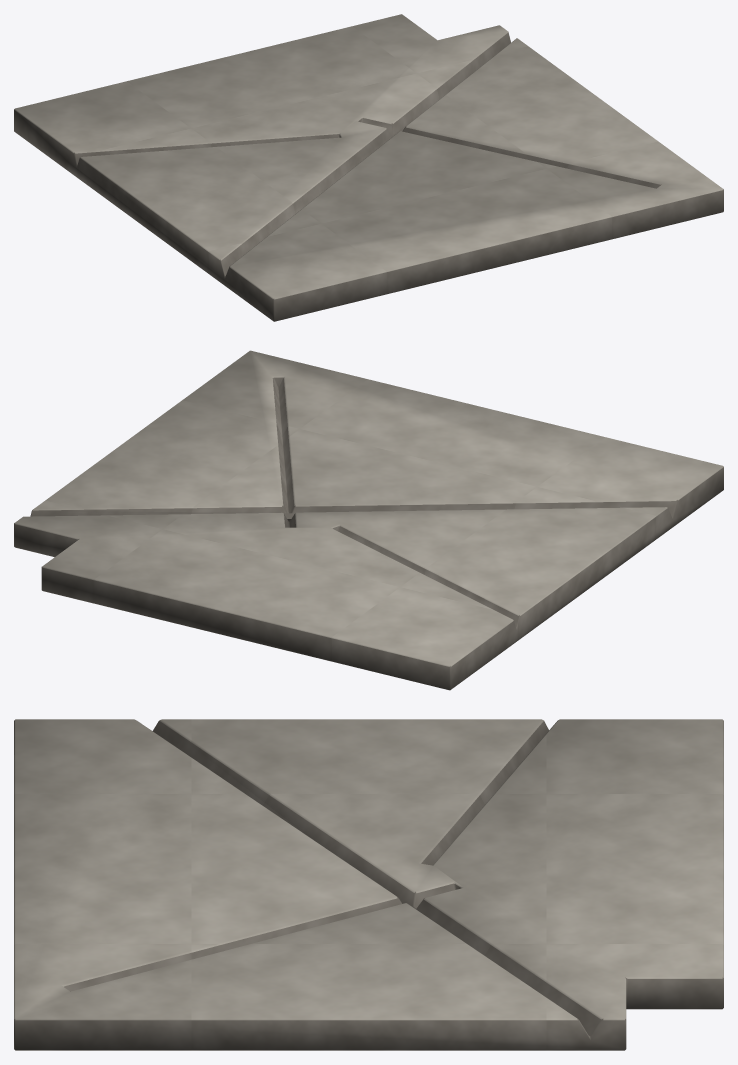
The model's file is floor_concrete_4x4_cracked.glb.
3 renders of one model, top to bottom at view 1: azimuth 30°, elevation 25°; view 2: azimuth 150°, elevation 25°; view 3: azimuth 270°, elevation 25°, orthographic. The views are drawn at different scales.
Parts seen in each view (by area): view 1: floor_concrete_4x4_cracked; view 2: floor_concrete_4x4_cracked; view 3: floor_concrete_4x4_cracked.
Part boxes in pixels (left/top/right/bottom): floor_concrete_4x4_cracked: left=14, top=14, right=723, bottom=321; floor_concrete_4x4_cracked: left=14, top=350, right=723, bottom=690; floor_concrete_4x4_cracked: left=14, top=719, right=723, bottom=1050.
Bounding box in the file's own units: 4 × 0.2 × 4.
2 materials, 2 textured.
